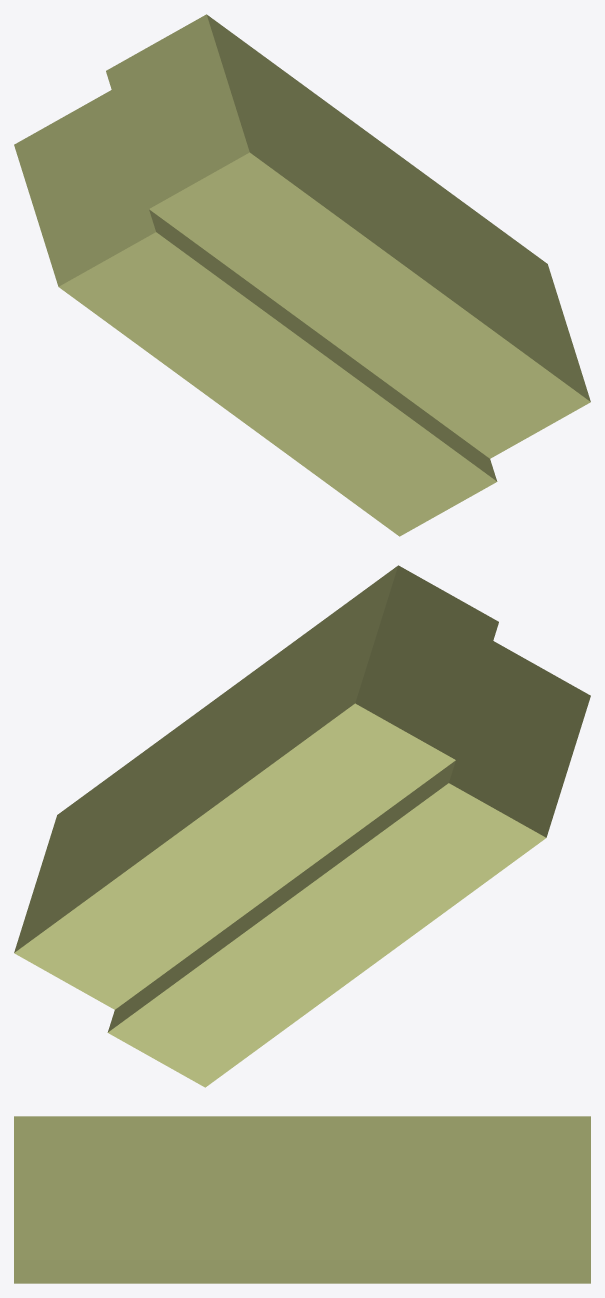
3 views of the same model, one above another, from view 1: azimuth 30°, elevation 25°; view 2: azimuth 150°, elevation 25°; view 3: azimuth 270°, elevation 25° (orthographic). The views are drawn at different scales.
Visible parts, largest first — view 1: 0_1_3_2_1_2_3_1_2_2_3_1; view 2: 0_1_3_2_1_2_3_1_2_2_3_1; view 3: 0_1_3_2_1_2_3_1_2_2_3_1.
Boxes of the visible parts, x1,y1,x2,y2 form: 0_1_3_2_1_2_3_1_2_2_3_1: [14, 14, 590, 536]; 0_1_3_2_1_2_3_1_2_2_3_1: [14, 565, 590, 1087]; 0_1_3_2_1_2_3_1_2_2_3_1: [14, 1116, 590, 1283].
Bounding box in the file's own units: 3.59 × 3.44 × 9.
